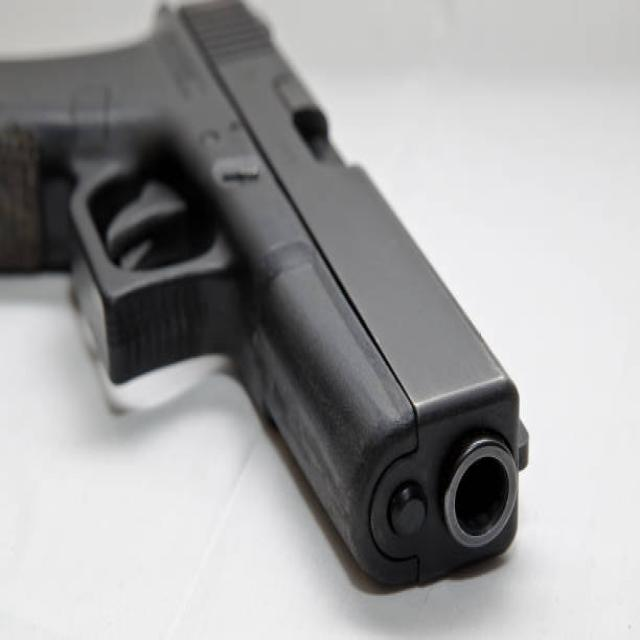pistol: (1, 1, 537, 589)
